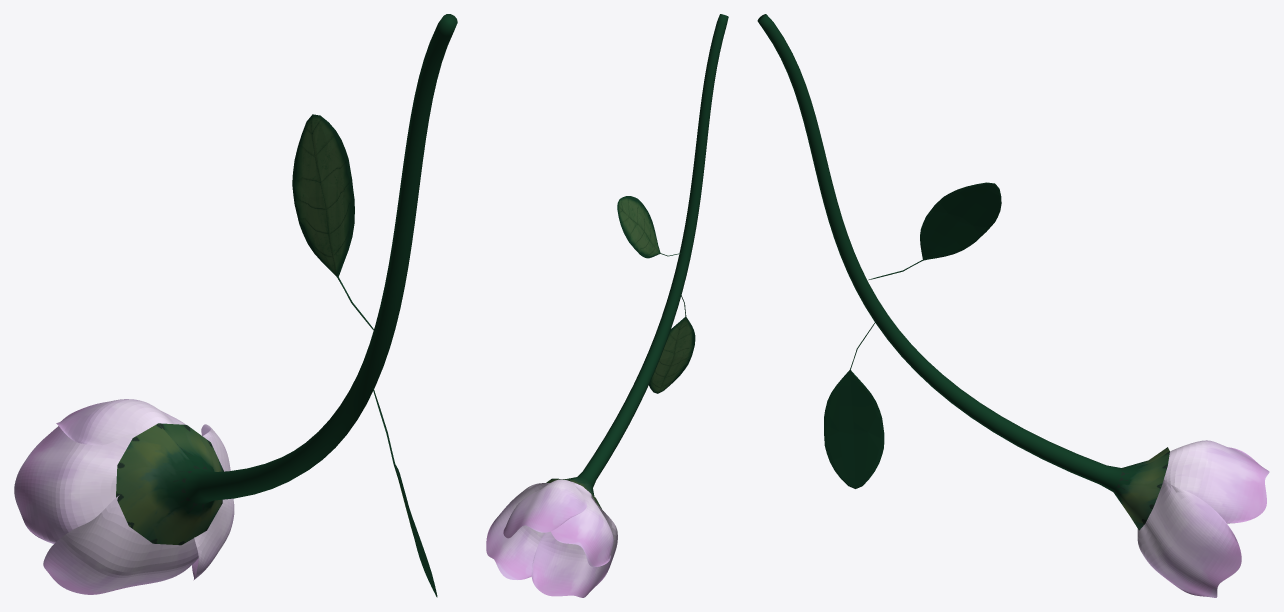
The model's file is rose-higher poly.glb.
The picture shows the model from 3 angles, left to right: view 1: azimuth 30°, elevation 25°; view 2: azimuth 150°, elevation 25°; view 3: azimuth 270°, elevation 25°; orthographic projection. The views are drawn at different scales.
Visible parts, largest first — view 1: stem, petal3, petal2, rose leaf, petal4, petal1, rose leaf.001; view 2: stem, petal2, petal4, petal1, petal3, rose leaf.001, rose leaf; view 3: stem, petal1, petal4, rose leaf.001, rose leaf.
Boxes of the visible parts, left/top/right/bottom form: stem: left=116, top=14, right=457, bottom=545; petal3: left=14, top=426, right=139, bottom=543; petal2: left=43, top=495, right=198, bottom=594; rose leaf: left=292, top=114, right=373, bottom=329; petal4: left=56, top=399, right=186, bottom=445; petal1: left=192, top=424, right=234, bottom=580; rose leaf.001: left=372, top=388, right=437, bottom=597; stem: left=546, top=14, right=728, bottom=511; petal2: left=531, top=495, right=617, bottom=597; petal4: left=503, top=479, right=586, bottom=538; petal1: left=486, top=483, right=549, bottom=579; petal3: left=551, top=483, right=613, bottom=566; rose leaf.001: left=649, top=295, right=695, bottom=393; rose leaf: left=617, top=196, right=681, bottom=258; stem: left=757, top=14, right=1169, bottom=530; petal1: left=1137, top=479, right=1241, bottom=597; petal4: left=1164, top=440, right=1269, bottom=523; rose leaf.001: left=824, top=322, right=884, bottom=488; rose leaf: left=868, top=182, right=1001, bottom=279.
Size of the model in its own units: 0.2423 by 0.9658 by 0.7866.
4 materials, 4 textured.
